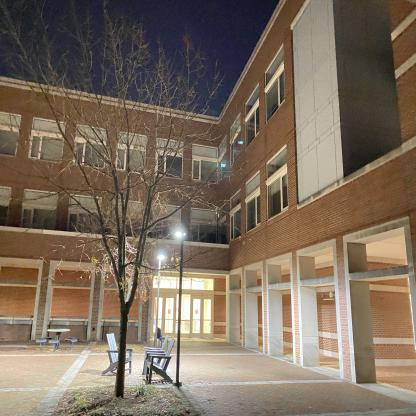eb2: (0, 72, 415, 377)
